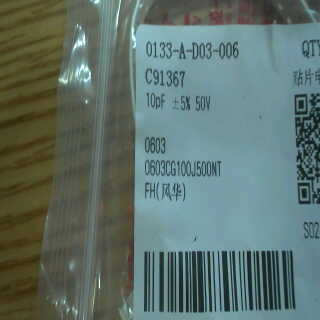10pF: (144, 89, 169, 112)
